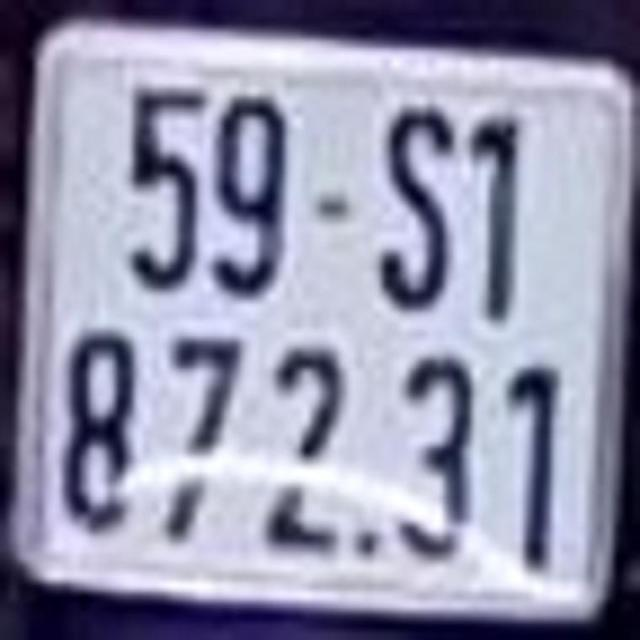1: (504, 361, 563, 572), (468, 110, 526, 323)
2: (266, 340, 346, 554)
3: (397, 347, 475, 560)
5: (123, 78, 204, 291)
7: (163, 328, 245, 543)
8: (62, 327, 135, 536)
9: (212, 88, 288, 298)
S: (377, 98, 458, 312)
